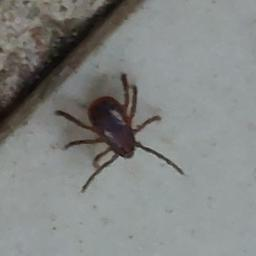Rhipicephalus sanguineus: (54, 72, 185, 192)
